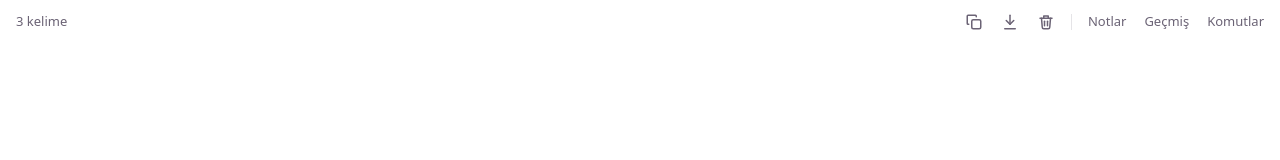
Test: araç satırı › indirme menüsü › seçilen biçimle indirir ve kapanır
Click the button named "İndir" at (1010, 22), box [993, 6, 1027, 38]
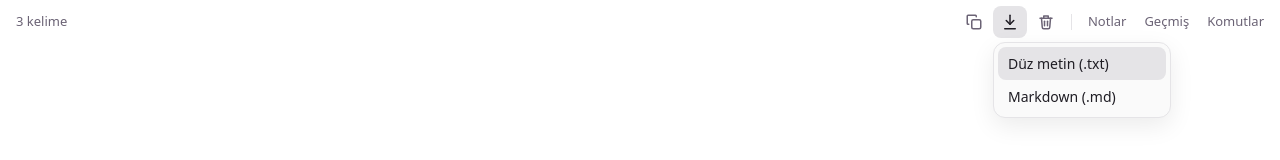
Click the menu item "Markdown (.md)" at (1082, 96), box [998, 80, 1166, 113]
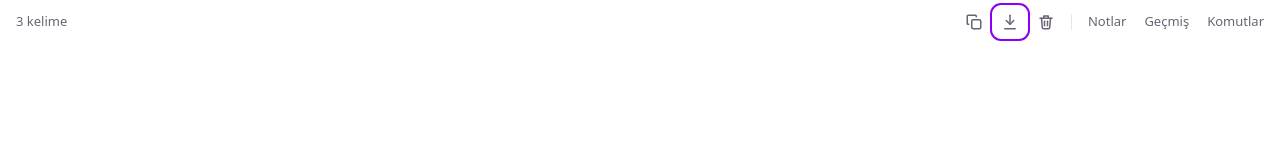
Expected: the menu is gone
